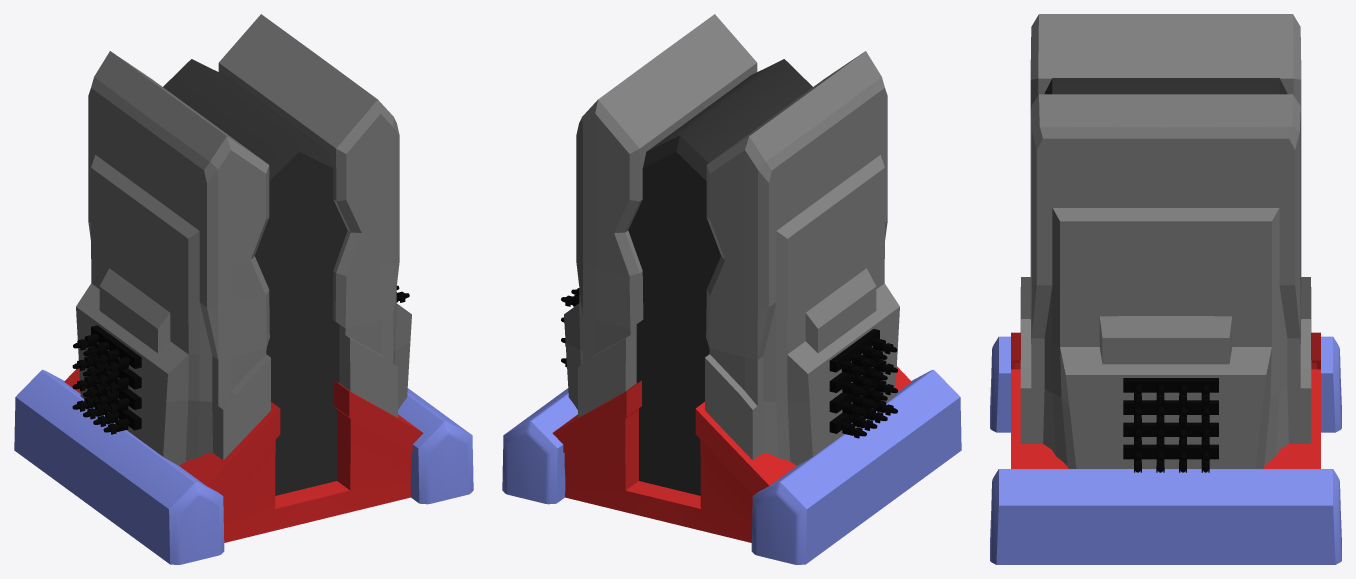
3 renders of one model, left to right at view 1: azimuth 30°, elevation 25°; view 2: azimuth 150°, elevation 25°; view 3: azimuth 270°, elevation 25°, orthographic. The views are drawn at different scales.
Visible parts, largest first — view 1: Box001_low, Box003_low, Box004_low, Box002_low, Box008_low, Box009_low, Box011_low, Box010_low; view 2: Box001_low, Box003_low, Box004_low, Box002_low, Box008_low, Box011_low, Box009_low, Box010_low; view 3: Box001_low, Box004_low, Box002_low, Box003_low, Box008_low, Box011_low, Box010_low, Box009_low.
Boxes of the visible parts, x1,y1,x2,y2 form: Box001_low: (76, 14, 411, 465); Box003_low: (163, 59, 347, 495); Box004_low: (14, 369, 473, 564); Box002_low: (64, 368, 423, 542); Box008_low: (73, 285, 409, 373); Box009_low: (72, 346, 141, 393); Box011_low: (72, 387, 141, 434); Box010_low: (72, 367, 141, 413); Box001_low: (564, 14, 899, 465); Box003_low: (628, 59, 812, 495); Box004_low: (502, 369, 961, 564); Box002_low: (552, 366, 911, 542); Box008_low: (561, 288, 897, 377); Box011_low: (561, 358, 897, 438); Box009_low: (561, 317, 897, 397); Box010_low: (561, 338, 897, 417); Box001_low: (1020, 14, 1311, 468); Box004_low: (990, 336, 1341, 564); Box002_low: (1011, 332, 1320, 468); Box003_low: (1044, 78, 1287, 94); Box008_low: (1123, 378, 1218, 405); Box011_low: (1123, 444, 1218, 472); Box010_low: (1123, 422, 1218, 450); Box009_low: (1123, 400, 1218, 428).
Bounding box in the file's own units: 500 × 620 × 460.
